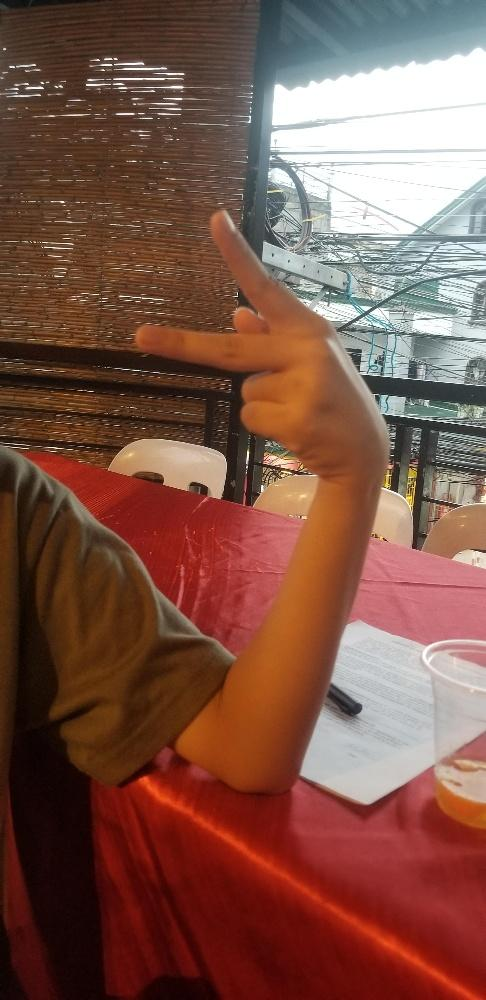k: (135, 205, 387, 480)
